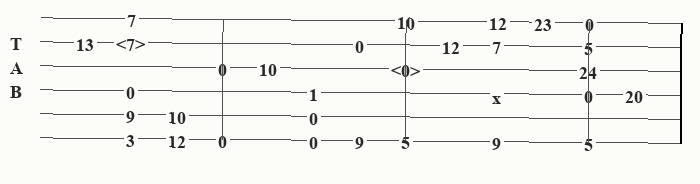0: (126, 84, 139, 100), (218, 132, 231, 148), (218, 60, 231, 76), (309, 108, 322, 124), (309, 132, 322, 148), (355, 36, 368, 52), (584, 84, 597, 100), (584, 12, 597, 28)
1: (309, 84, 322, 100)
10: (168, 108, 190, 124), (259, 60, 281, 76), (396, 12, 418, 28)
12: (168, 132, 190, 148), (442, 36, 464, 52), (488, 12, 510, 28)
13: (76, 36, 98, 52)
20: (625, 84, 647, 100)
23: (533, 12, 555, 28)
24: (579, 60, 601, 76)
3: (126, 132, 139, 148)
5: (401, 132, 414, 148), (584, 132, 597, 148), (584, 36, 597, 52)
7: (126, 12, 139, 28), (492, 36, 505, 52)
9: (126, 108, 139, 124), (355, 132, 368, 148), (492, 132, 505, 148)
harmonic: (116, 36, 149, 52), (391, 60, 424, 76)
x: (492, 86, 505, 98)
